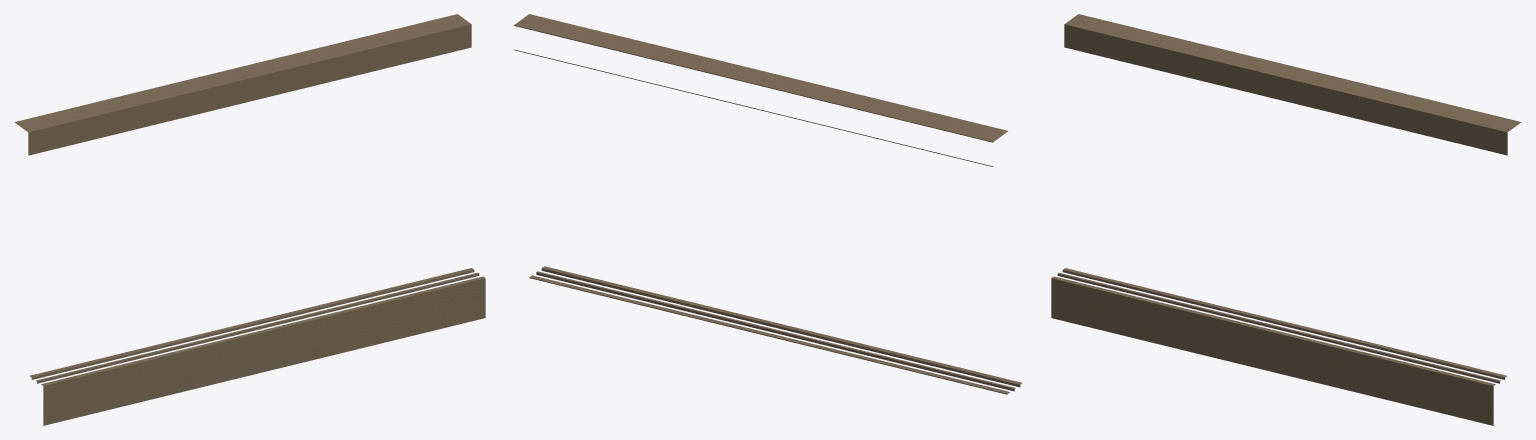
File: kd_stage_135b75_4_1.glb
3 views of the same model, side by side, from view 1: azimuth 30°, elevation 25°; view 2: azimuth 150°, elevation 25°; view 3: azimuth 330°, elevation 25° (orthographic). The views are drawn at different scales.
Parts seen in each view (by area): view 1: kd_stage_135b75_4_1; view 2: kd_stage_135b75_4_1; view 3: kd_stage_135b75_4_1.
Boxes of the visible parts, box(x1,y1,x2,y2) form: kd_stage_135b75_4_1: box(14, 14, 485, 425); kd_stage_135b75_4_1: box(514, 14, 1022, 394); kd_stage_135b75_4_1: box(1051, 14, 1521, 425).
Bounding box in the file's own units: 2 × 1.22 × 0.22.
Materials: 1 (1 with a texture image).
